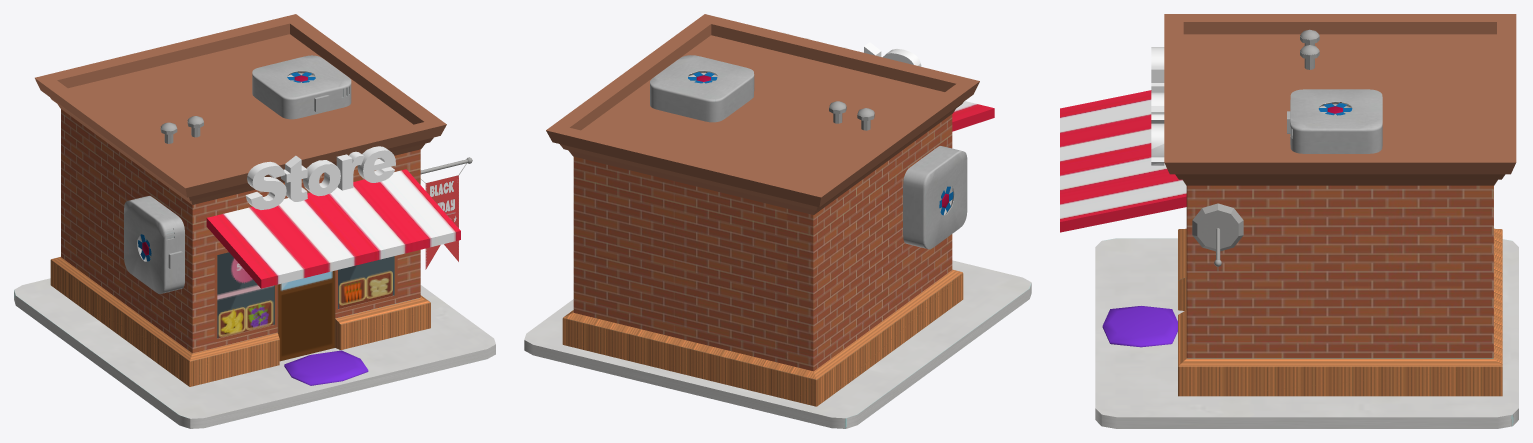
The model's file is store.fbx.
3 renders of one model, left to right at view 1: azimuth 30°, elevation 25°; view 2: azimuth 150°, elevation 25°; view 3: azimuth 270°, elevation 25°, orthographic. The views are drawn at different scales.
Visible parts, largest first — view 1: Build, Shop; view 2: Build, Shop; view 3: Build, Shop.
Part boxes in pixels (<box>): Build: <box>14,14,495,428</box>; Shop: <box>245,146,395,209</box>; Build: <box>524,14,1031,428</box>; Shop: <box>782,32,921,66</box>; Build: <box>1060,14,1518,428</box>; Shop: <box>1151,47,1164,165</box>.
Bounding box in the file's own units: 11.78 × 7.61 × 11.95.
